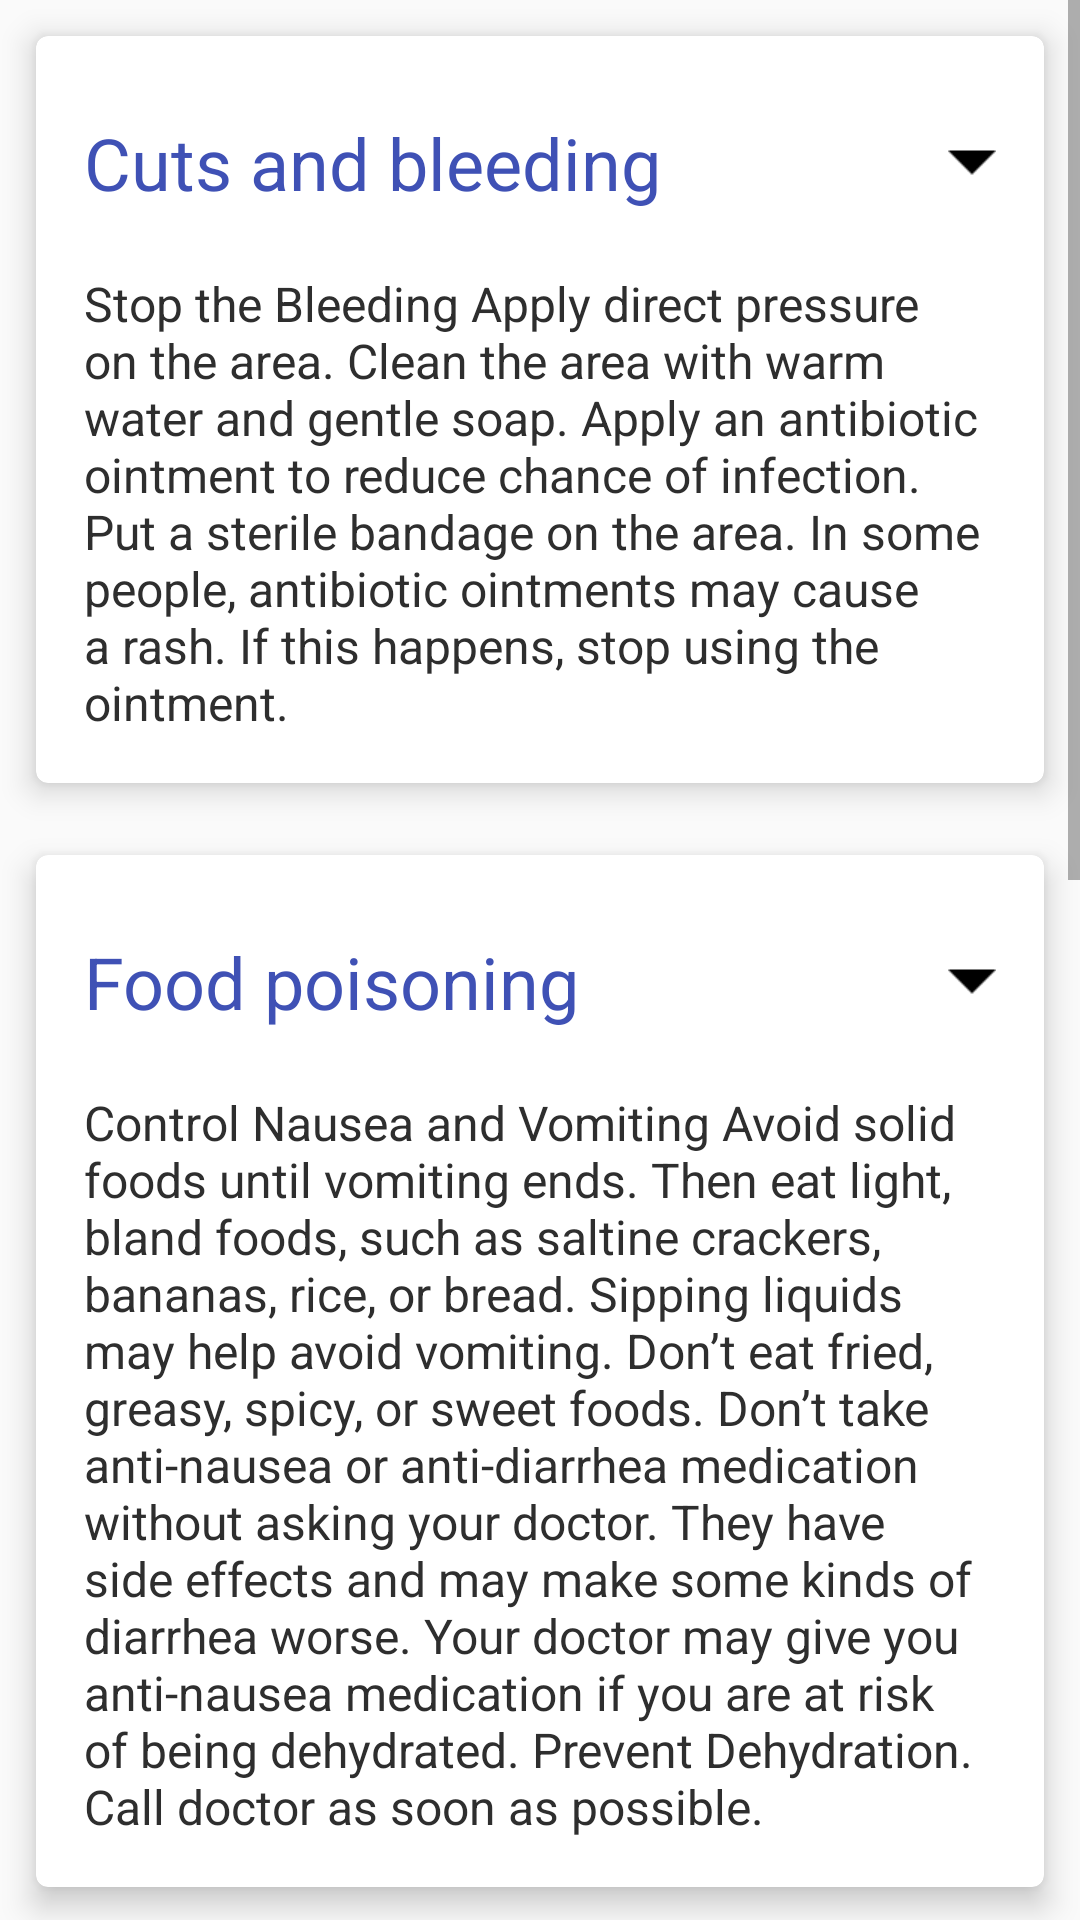

Icons on this 1080×1920 Android screen, each with its box as (x1, y1, x2, y2):
dropdown: (948, 150, 996, 175), (948, 969, 996, 994)
